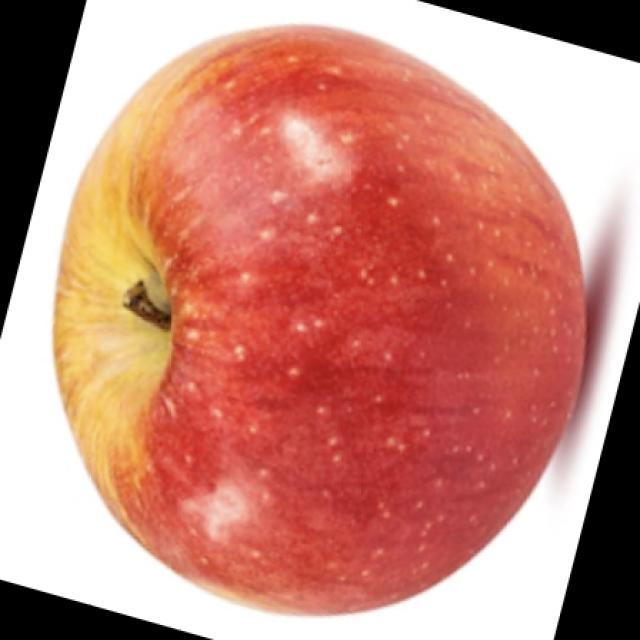Fresh Apple: (55, 53, 585, 615)
